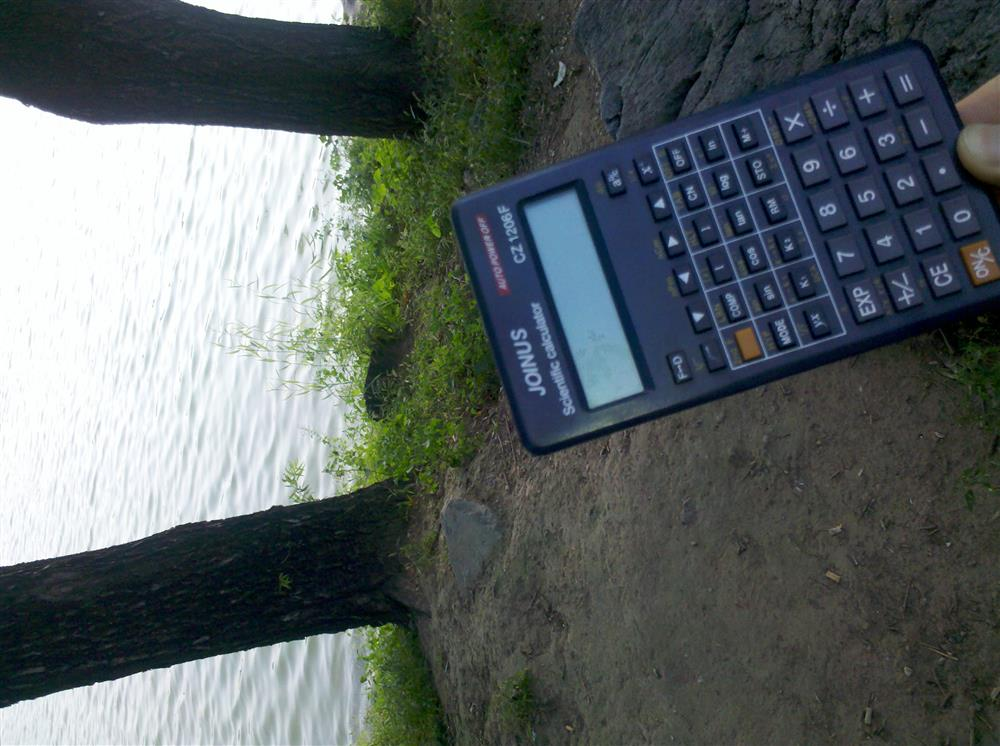Caculator: (458, 45, 996, 448)
